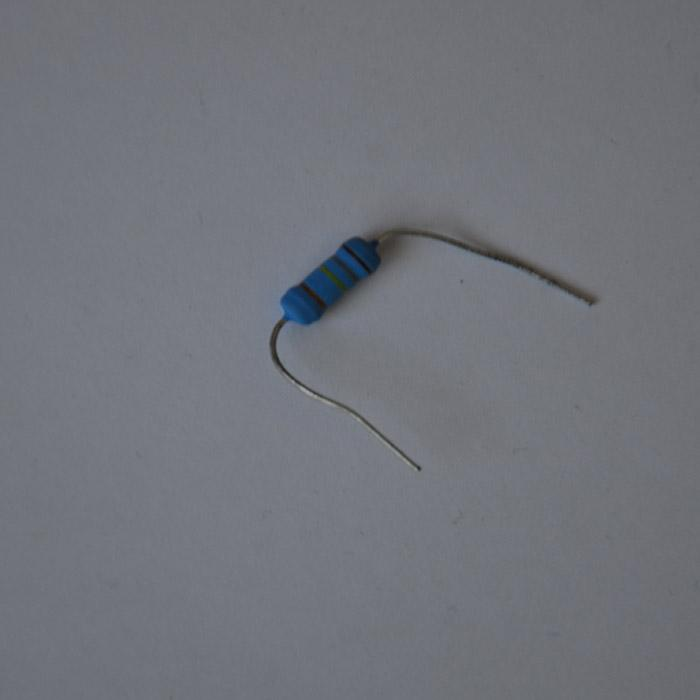resistor: (278, 234, 383, 326)
